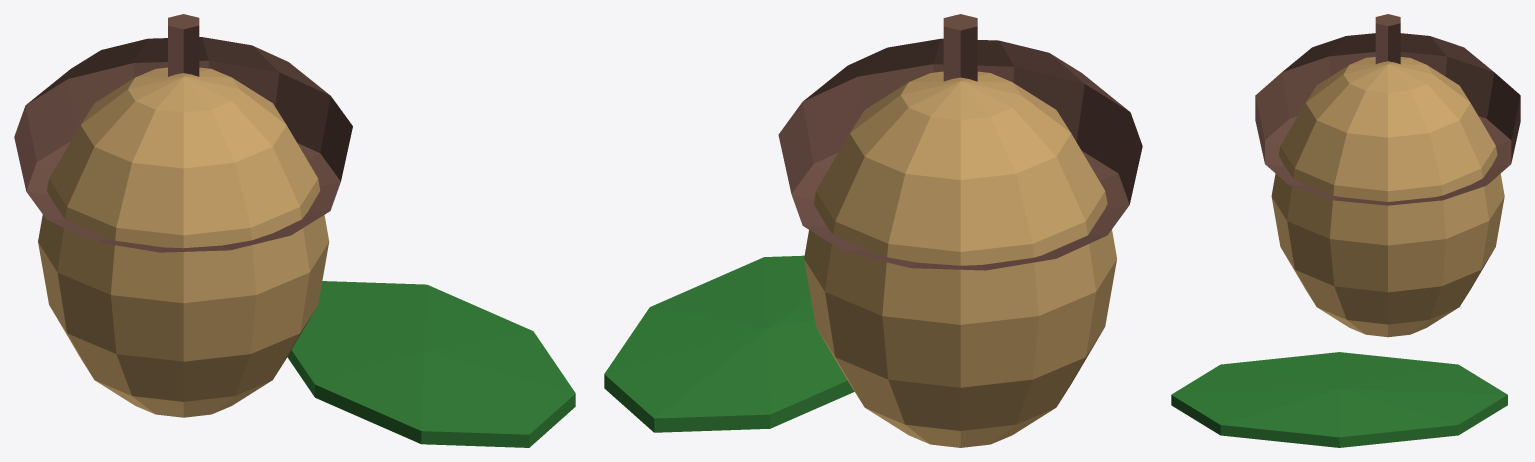
The model's file is ekollon.glb.
The picture shows the model from 3 angles, left to right: view 1: azimuth 30°, elevation 25°; view 2: azimuth 150°, elevation 25°; view 3: azimuth 270°, elevation 25°; orthographic projection. The views are drawn at different scales.
Visible parts, largest first — view 1: ekollon; view 2: ekollon; view 3: ekollon.
Boxes of the visible parts, x1,y1,x2,y2 form: ekollon: (14,14,575,447); ekollon: (604,14,1142,447); ekollon: (1171,14,1520,447).
Size of the model in its own units: 0.4439 by 0.35 by 0.3597.
